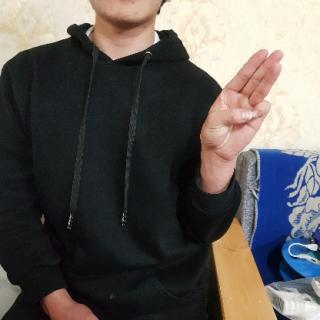THA: (196, 45, 285, 161)
